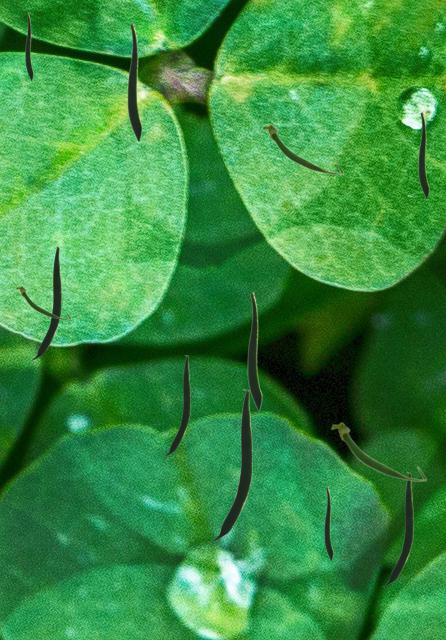french_bean: (210, 389, 251, 540), (330, 421, 426, 481), (261, 123, 343, 174), (382, 472, 412, 585), (30, 246, 60, 359), (164, 355, 189, 455), (15, 285, 70, 319), (127, 22, 141, 141), (247, 291, 261, 410), (418, 111, 428, 198), (324, 486, 332, 560), (25, 12, 32, 80)
